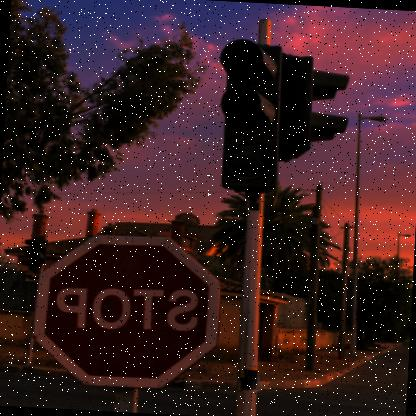stop: (33, 228, 224, 389)
trafficlight: (221, 40, 284, 191), (283, 48, 356, 160)
